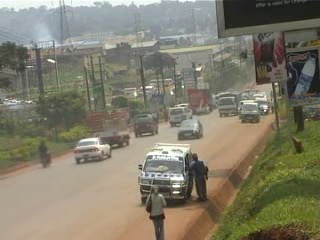Car: (71, 136, 115, 164), (176, 117, 206, 142)
Motorcycle: (39, 147, 51, 168)
